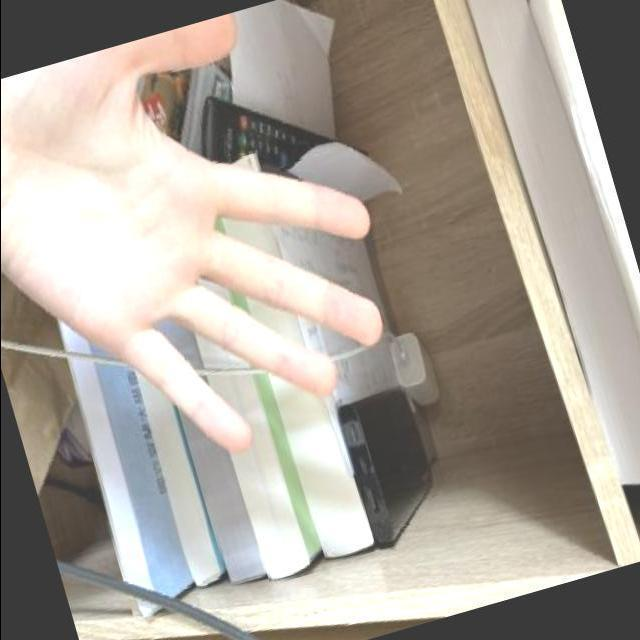hand: (8, 14, 386, 471)
